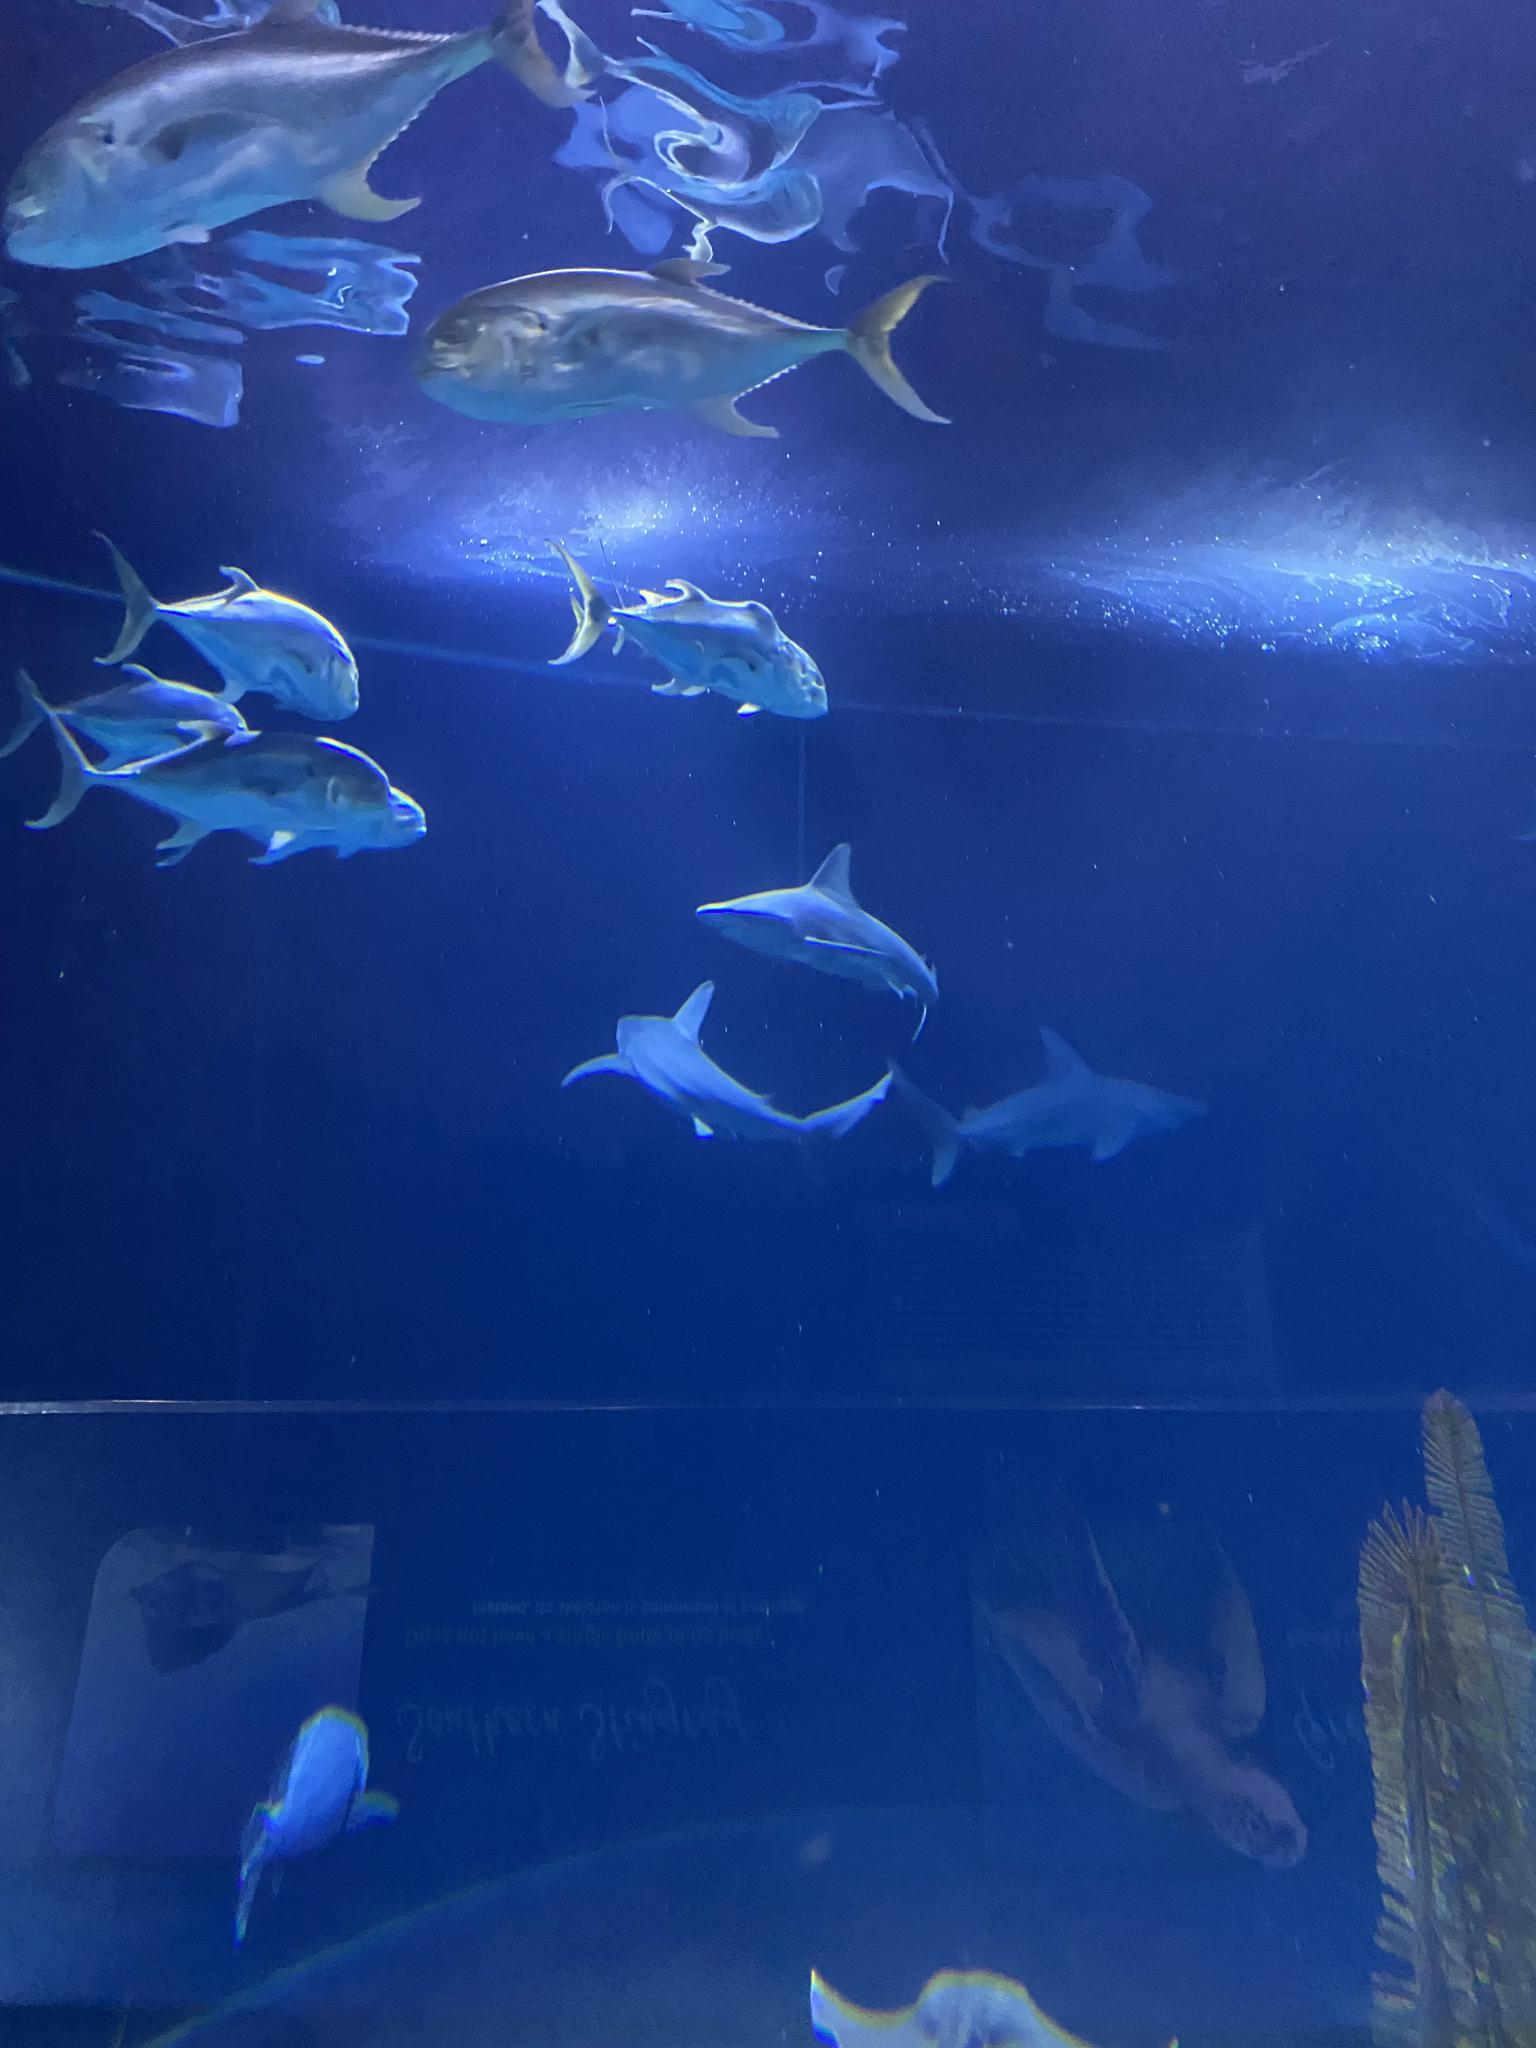fish: (19, 684, 394, 851), (89, 540, 374, 718), (213, 1692, 419, 1930), (628, 584, 852, 740), (541, 572, 795, 705), (195, 756, 449, 872), (40, 655, 269, 760)
shark: (544, 985, 891, 1155), (686, 819, 960, 1014), (907, 1018, 1218, 1172)
